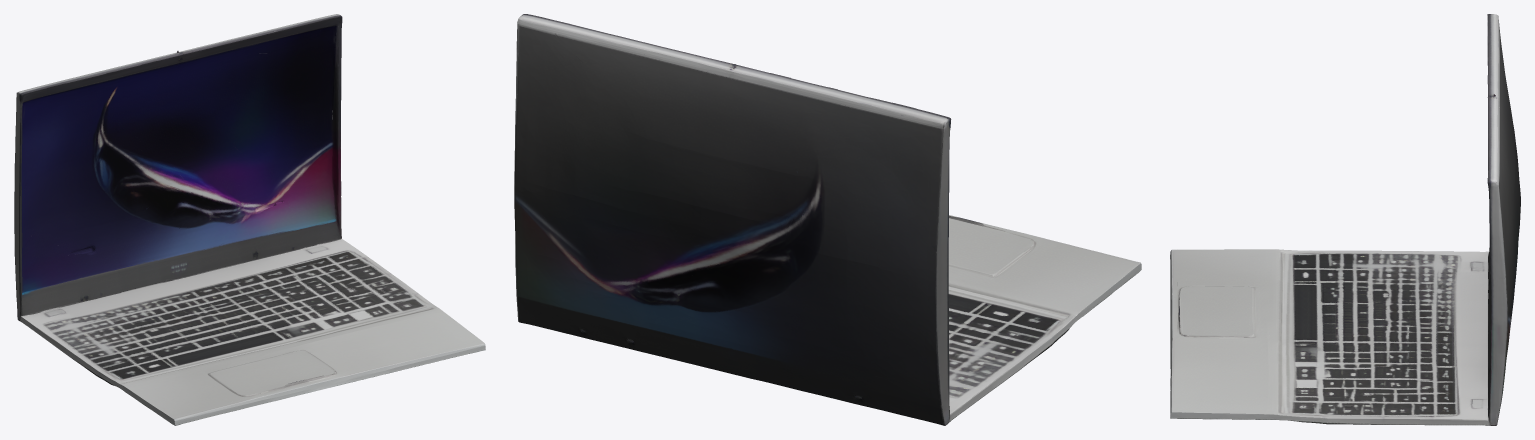
Rendered from 0cefcdbe-d4df-47af-8eea-1e528724da21.glb.
The picture shows the model from 3 angles, left to right: view 1: azimuth 30°, elevation 25°; view 2: azimuth 150°, elevation 25°; view 3: azimuth 270°, elevation 25°; orthographic projection. The views are drawn at different scales.
Parts seen in each view (by area): view 1: world; view 2: world; view 3: world.
Boxes of the visible parts, bbox=[...] form: world: bbox=[14, 14, 485, 425]; world: bbox=[514, 14, 1141, 425]; world: bbox=[1170, 14, 1520, 425].
Size of the model in its own units: 1 by 0.6873 by 0.8824.
Materials: 1 (1 with a texture image).
